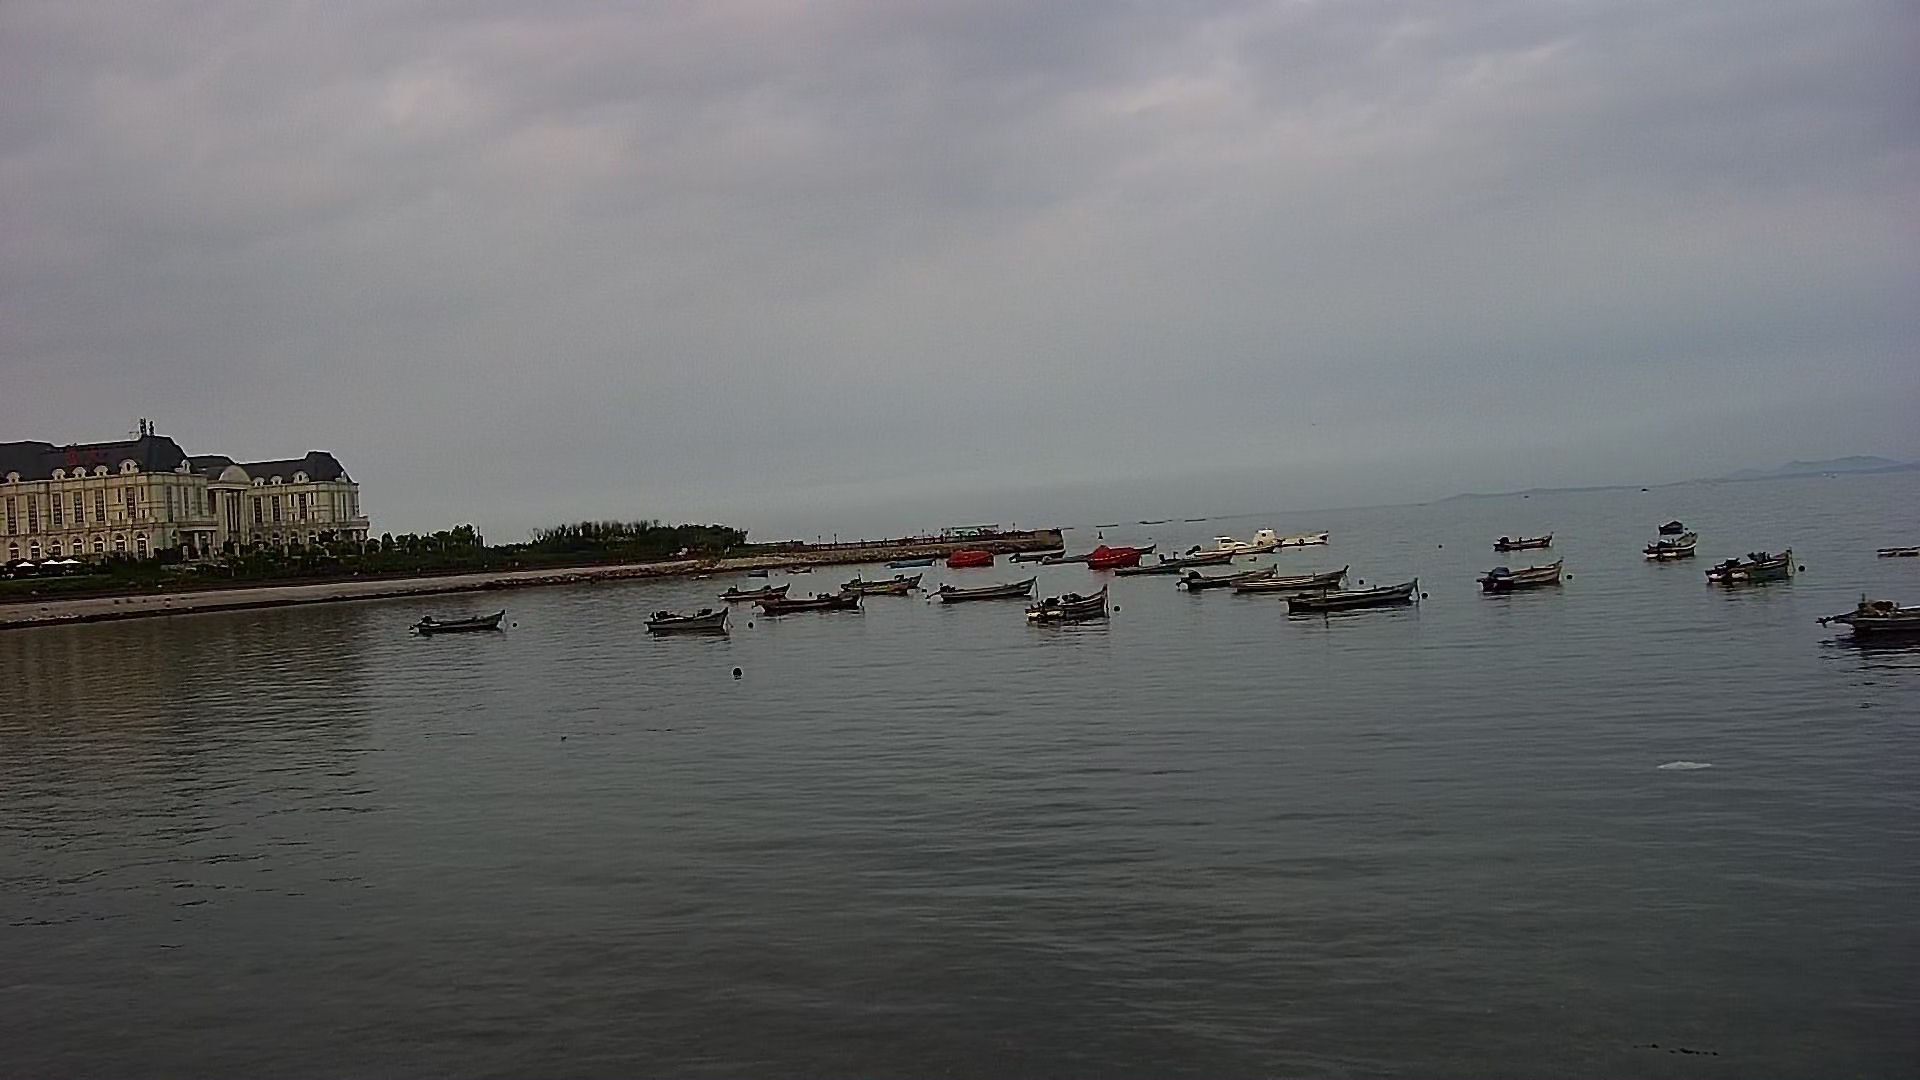boat: (1209, 505, 1338, 564), (1818, 583, 1919, 658), (1294, 574, 1422, 632), (1701, 535, 1804, 599), (407, 597, 516, 653), (637, 599, 735, 659), (762, 589, 862, 640), (934, 564, 1036, 612), (836, 560, 927, 613), (1030, 588, 1126, 637), (1482, 566, 1580, 604), (1642, 516, 1700, 564), (1193, 562, 1270, 596), (1501, 524, 1563, 556), (727, 576, 789, 608)
harbor: (829, 504, 1077, 564)
